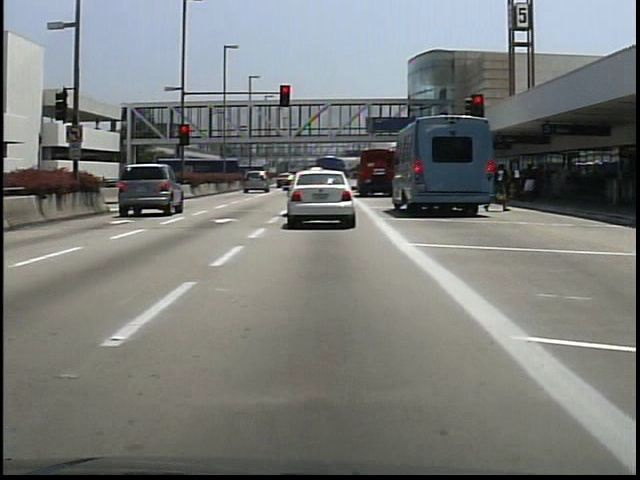person: (487, 156, 510, 216), (521, 157, 538, 202)
